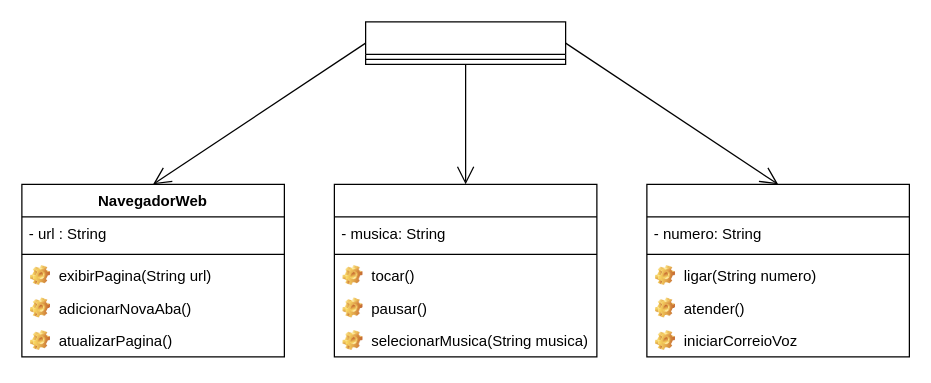
This 931x383 diagram has some shape labels left out. Each missing label, with the box of its shape:
AparelhoTelefonico: (646, 183, 909, 357)
Iphone: (364, 21, 566, 64)
ReprodutorMusical: (333, 183, 597, 357)
